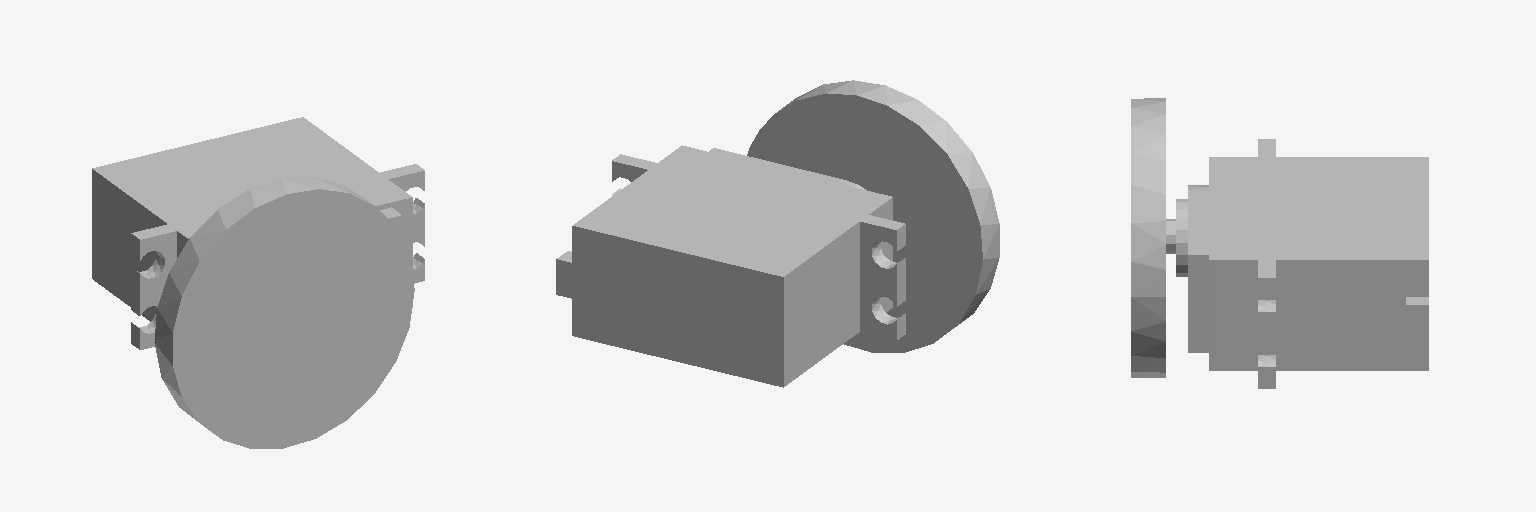
Rendered from servo.obj.
3 views of the same model, side by side, from view 1: azimuth 30°, elevation 25°; view 2: azimuth 150°, elevation 25°; view 3: azimuth 270°, elevation 25° (orthographic).
Bounding box in the file's own units: 59.97 × 45.9 × 48.75.